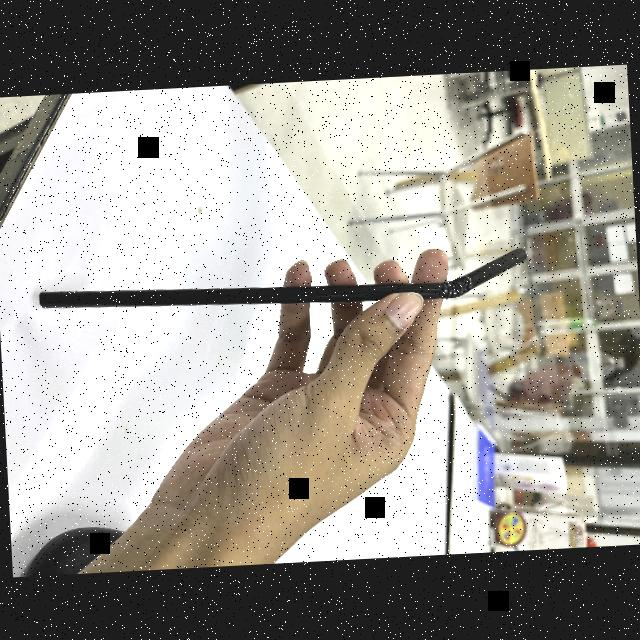straw: (41, 242, 538, 323)
